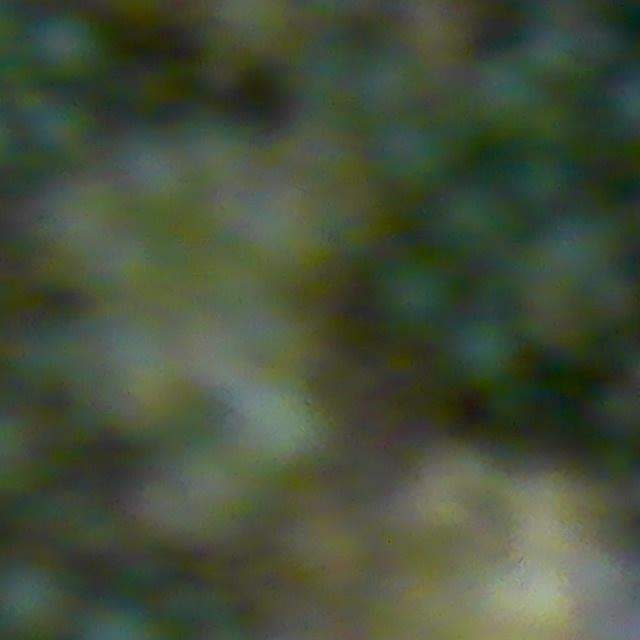SeaGrape: (375, 113, 457, 197), (376, 257, 449, 335), (29, 11, 107, 84), (0, 559, 70, 640), (24, 93, 96, 164), (448, 316, 516, 386), (556, 216, 621, 289), (464, 72, 530, 142), (519, 140, 575, 213), (451, 194, 516, 248), (535, 22, 586, 81)
